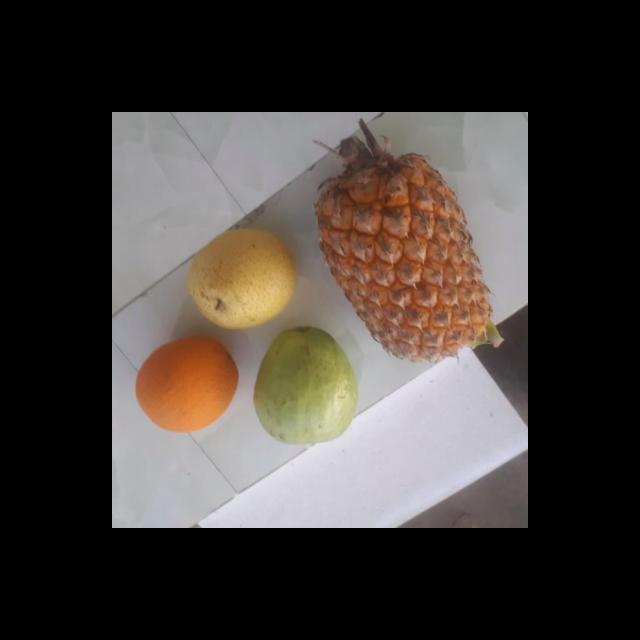guava: (254, 333, 360, 442)
orange: (133, 337, 242, 433)
pear: (185, 226, 300, 330)
pineapple: (320, 148, 494, 362)
